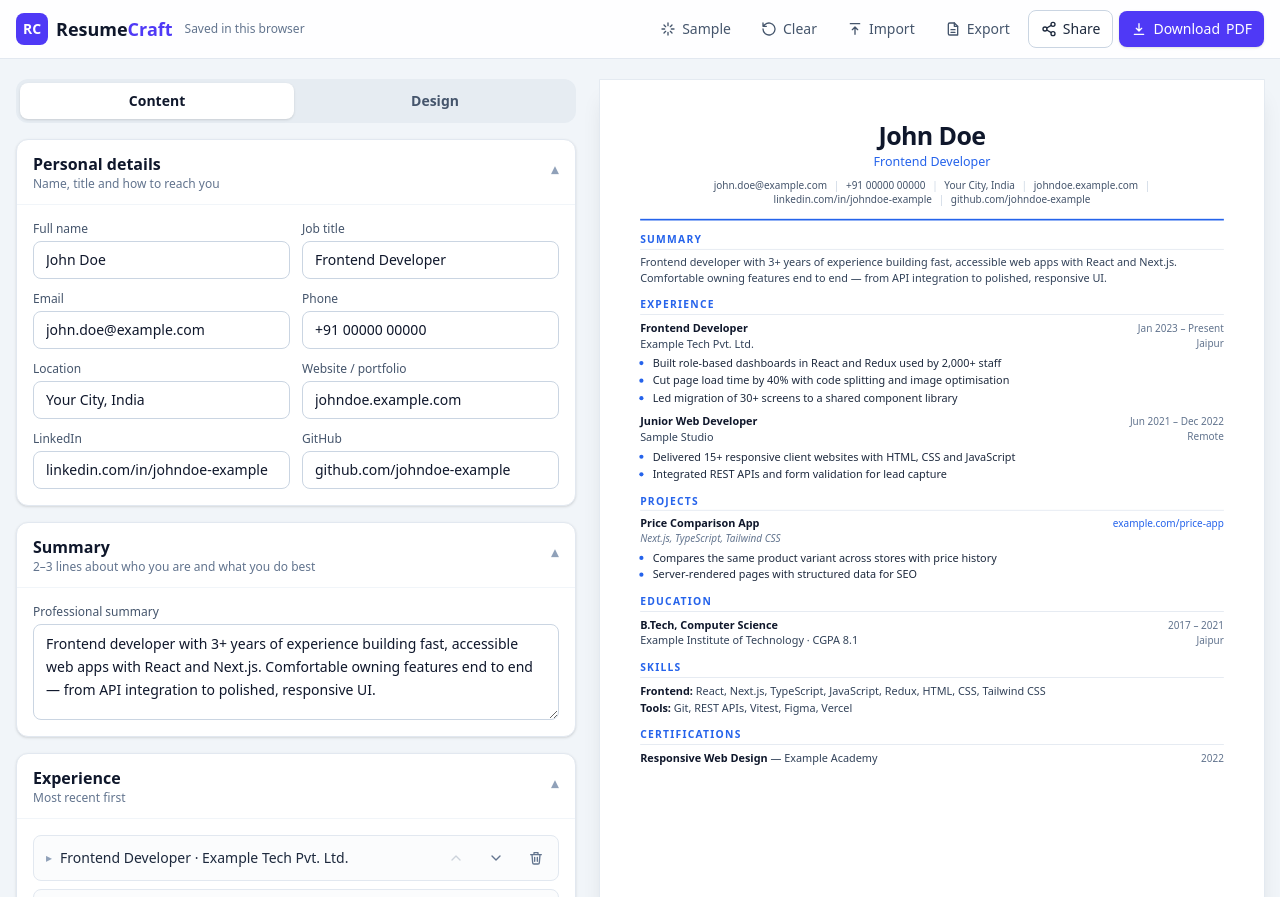
Builder › starts with the sample and updates the preview as you type
The image size is (1280, 897).
Expected: the heading "John Doe" is shown, [879, 118, 985, 153]
Step 1. Type "Ajay Kumar" into the field labelled "Full name" → (162, 260), box [33, 241, 290, 279]
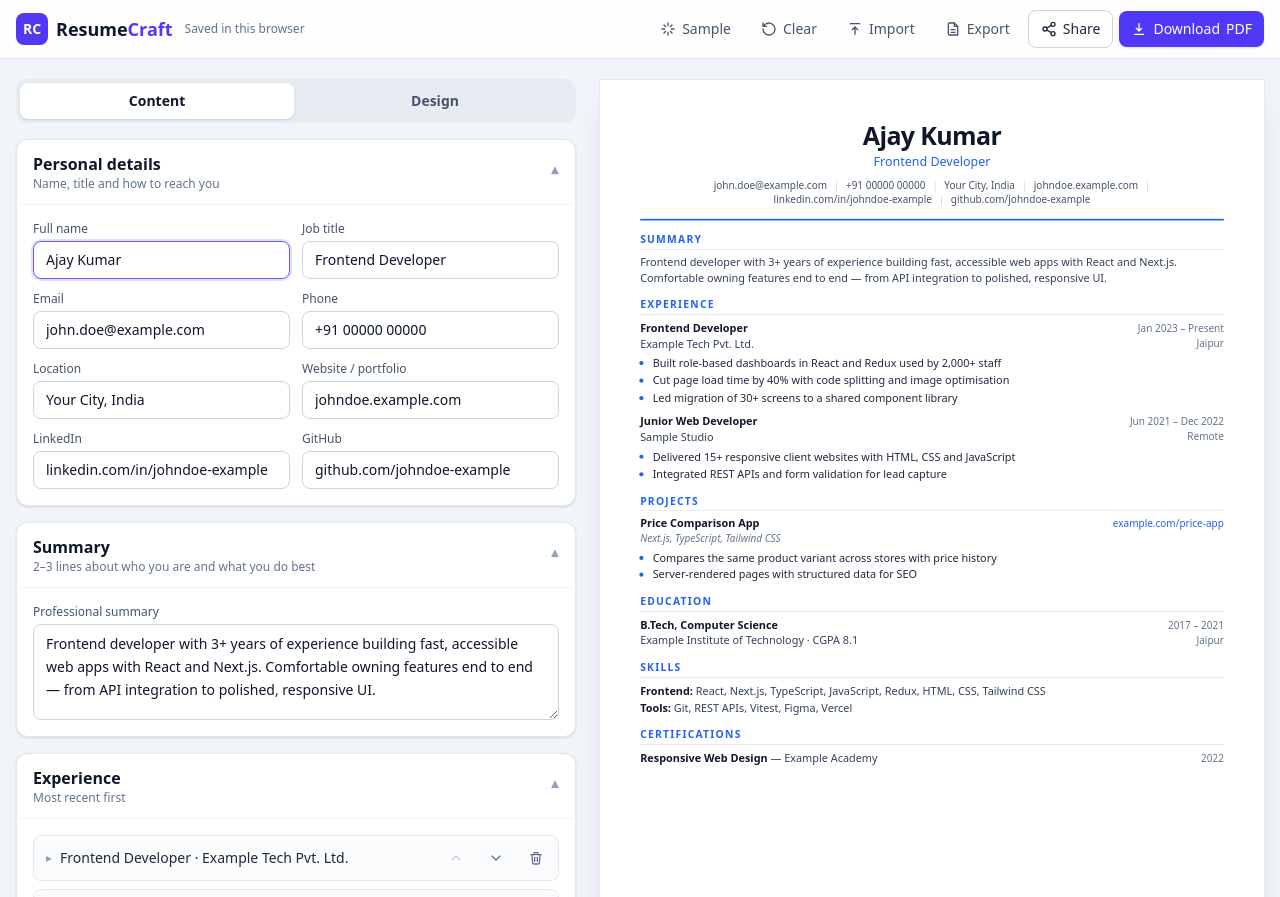
Expected: the heading "Ajay Kumar" is shown, [863, 118, 1001, 153]
